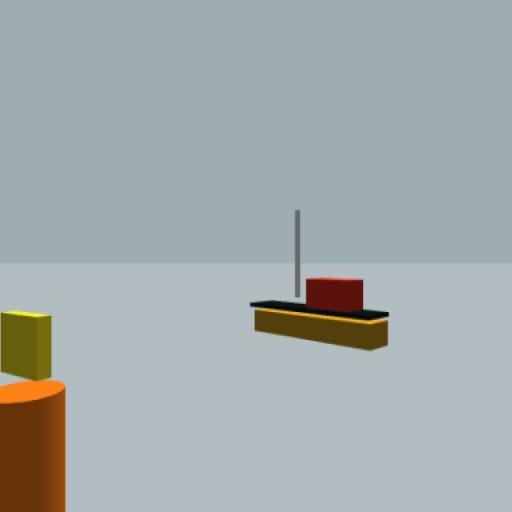vessel: (248, 208, 390, 353)
